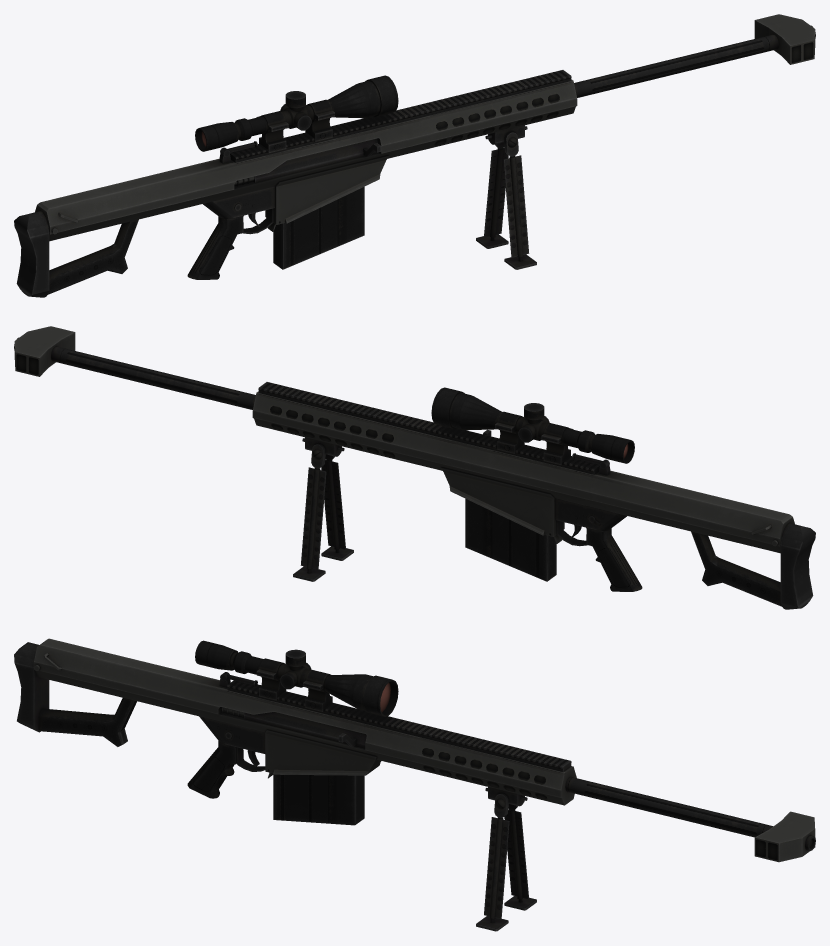
The model's file is Barrett_M107.fbx.
3 renders of one model, top to bottom at view 1: azimuth 30°, elevation 25°; view 2: azimuth 150°, elevation 25°; view 3: azimuth 330°, elevation 25°, orthographic.
Visible parts, largest first — view 1: Barrett_M107; view 2: Barrett_M107; view 3: Barrett_M107.
Boxes of the visible parts, x1,y1,x2,y2 form: Barrett_M107: (14, 14, 815, 297); Barrett_M107: (14, 326, 815, 609); Barrett_M107: (14, 638, 815, 931).
Bounding box in the file's own units: 1261 × 318 × 113.
Materials: 1 (1 with a texture image).
